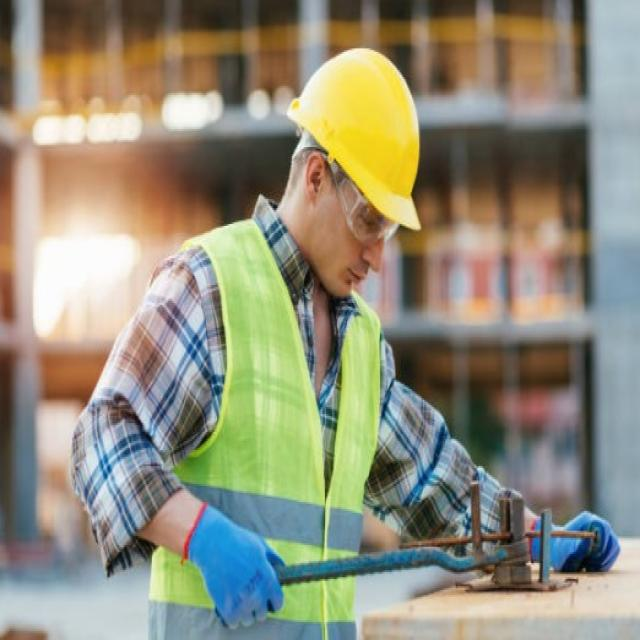gloved: (182, 500, 286, 629), (528, 509, 620, 572)
